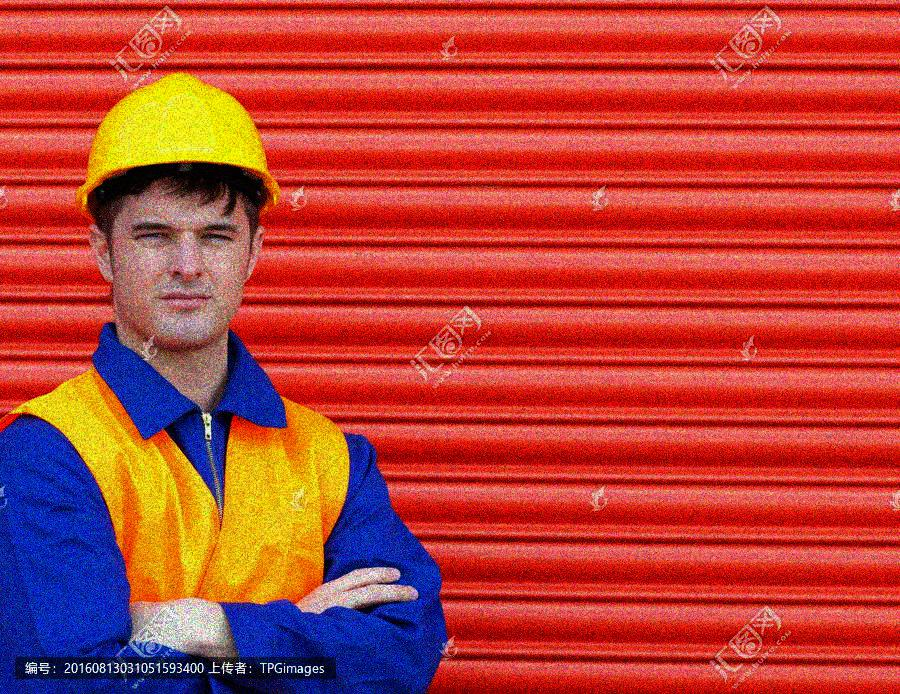helmet: (71, 69, 283, 354)
